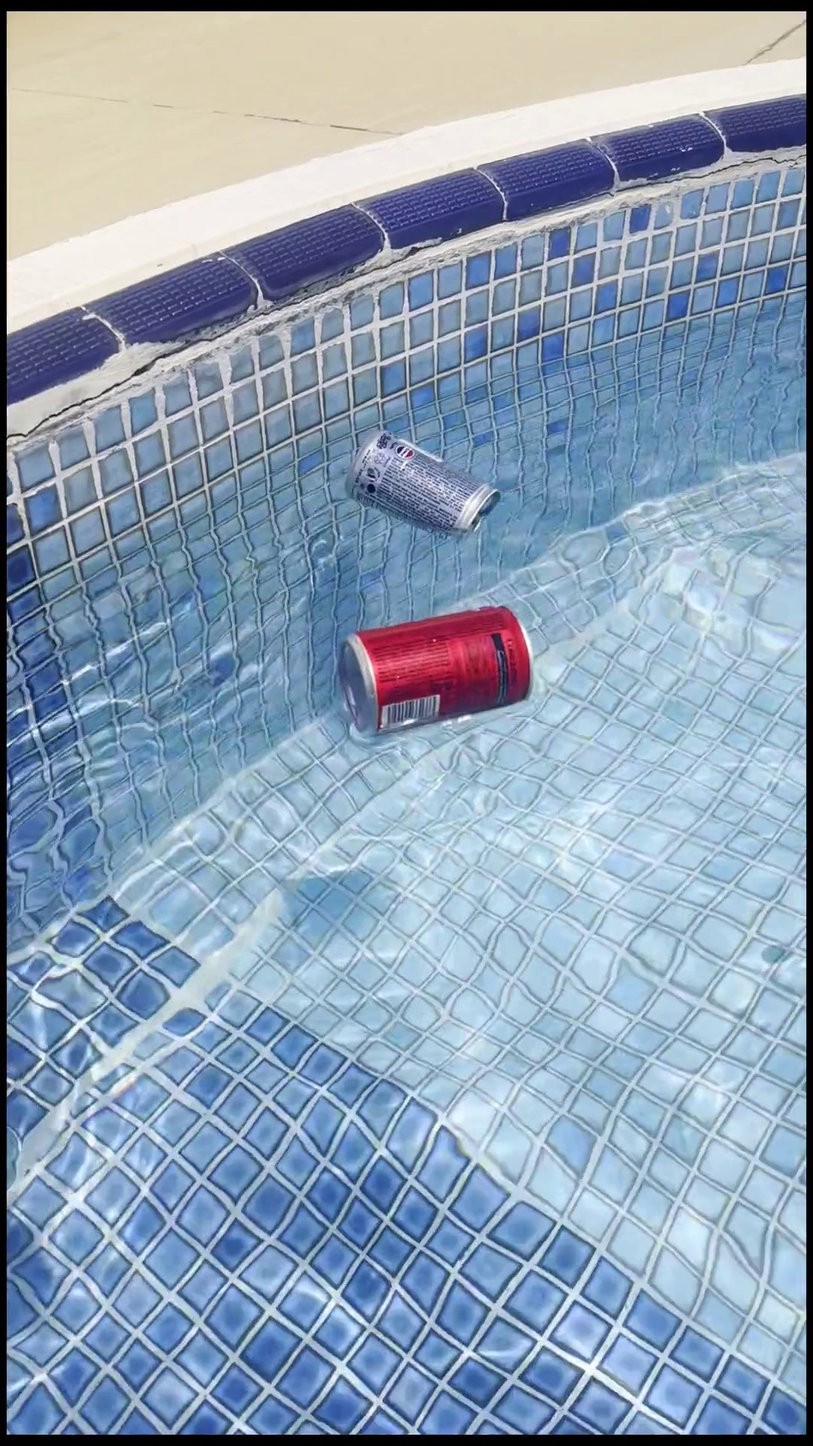debris: (329, 566, 537, 746), (334, 386, 503, 570)
